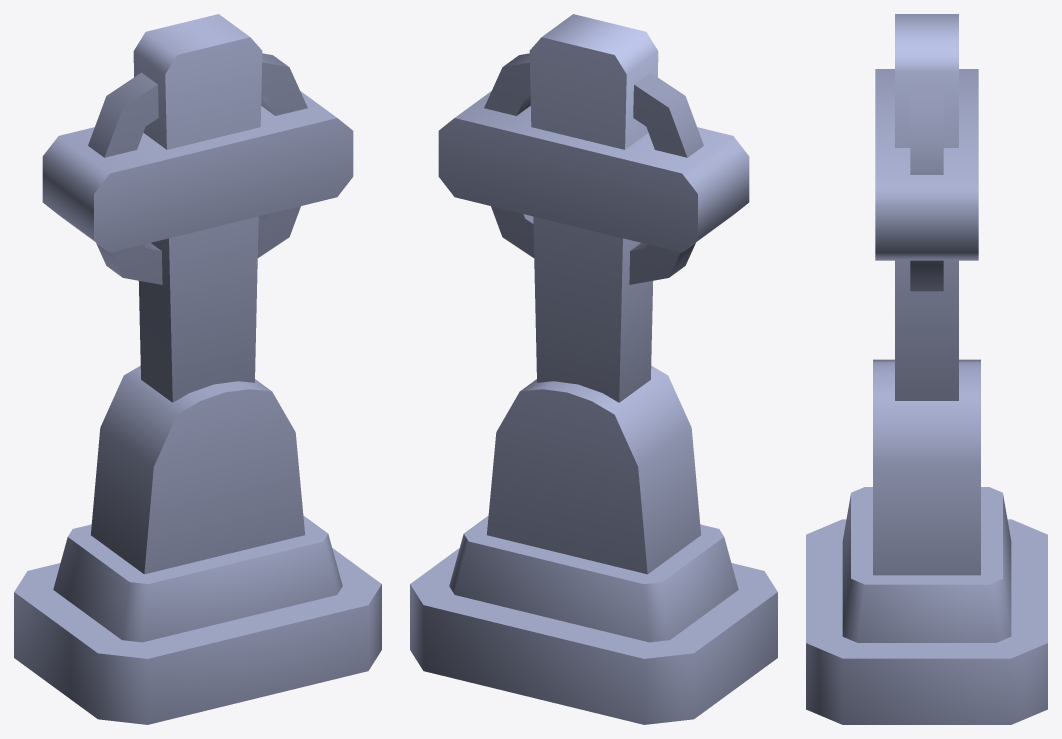
The model's file is gravestone-cross-large_lev3.glb.
3 renders of one model, left to right at view 1: azimuth 30°, elevation 25°; view 2: azimuth 150°, elevation 25°; view 3: azimuth 270°, elevation 25°, orthographic.
Visible parts, largest first — view 1: gravestone-cross-large_lev3; view 2: gravestone-cross-large_lev3; view 3: gravestone-cross-large_lev3.
Boxes of the visible parts, x1,y1,x2,y2 form: gravestone-cross-large_lev3: [14, 14, 381, 724]; gravestone-cross-large_lev3: [410, 14, 777, 724]; gravestone-cross-large_lev3: [806, 14, 1047, 724].
Size of the model in its own units: 2.36 by 4.93 by 1.73.
1 material, 1 textured.
